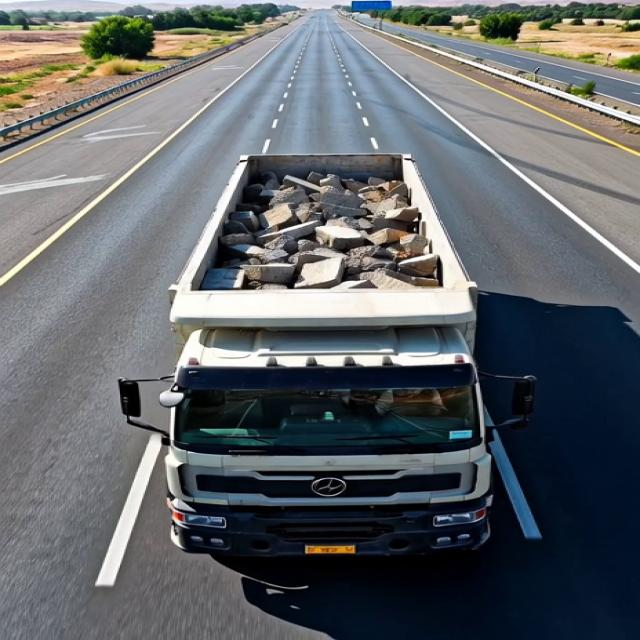trailer: (182, 154, 484, 332)
truck: (118, 138, 522, 576)
